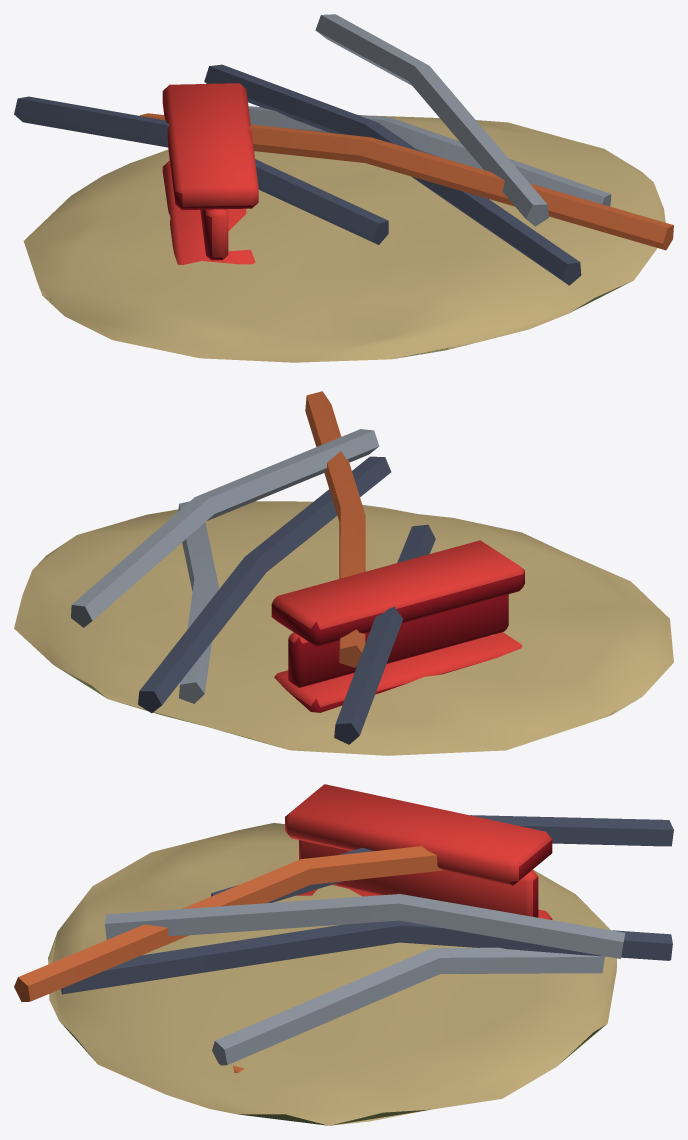
The model's file is ScrapPile.fbx.
The picture shows the model from 3 angles, top to bottom: view 1: azimuth 30°, elevation 25°; view 2: azimuth 150°, elevation 25°; view 3: azimuth 270°, elevation 25°; orthographic projection. The views are drawn at different scales.
Parts seen in each view (by area): view 1: ScrapPile; view 2: ScrapPile; view 3: ScrapPile.
Part boxes in pixels (<box>): ScrapPile: <box>14,14,673,362</box>; ScrapPile: <box>14,391,673,755</box>; ScrapPile: <box>14,784,673,1125</box>.
Bounding box in the file's own units: 1.2 × 0.2523 × 1.13.
1 material, 1 textured.
